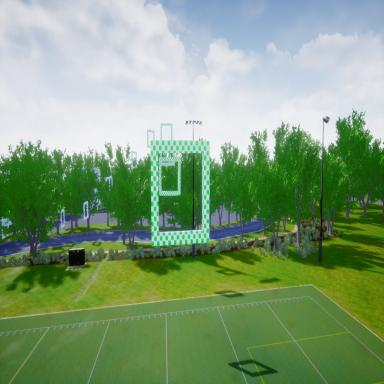gate: (149, 140, 211, 242), (158, 156, 182, 196)
